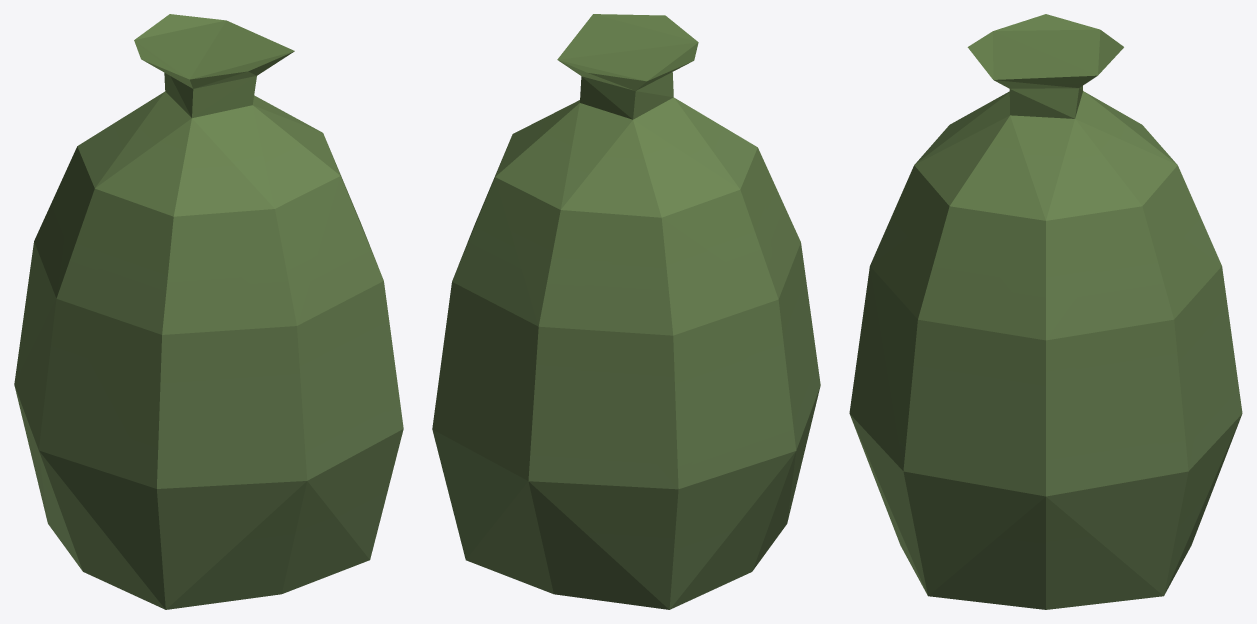
Rendered from Garbage_02.fbx.
3 views of the same model, side by side, from view 1: azimuth 30°, elevation 25°; view 2: azimuth 150°, elevation 25°; view 3: azimuth 270°, elevation 25° (orthographic).
Visible parts, largest first — view 1: Garbage_02; view 2: Garbage_02; view 3: Garbage_02.
Part boxes in pixels (x1,y1,x2,y2): Garbage_02: (14,14,403,609); Garbage_02: (432,14,820,609); Garbage_02: (849,14,1242,609).
Bounding box in the file's own units: 0.3723 × 0.5218 × 0.3723.
